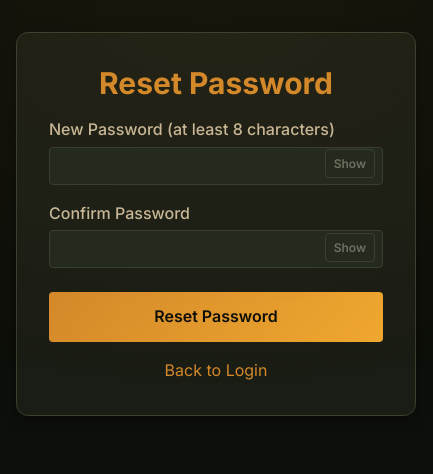
Test: ResetPasswordForm › shows error for password too short
The width and height of the screenshot is (433, 474).
Type "short" into the password field labelled "New Password (at least 8 characters) Show".
click(216, 166); type("short")  # box 49,147 -> 383,185
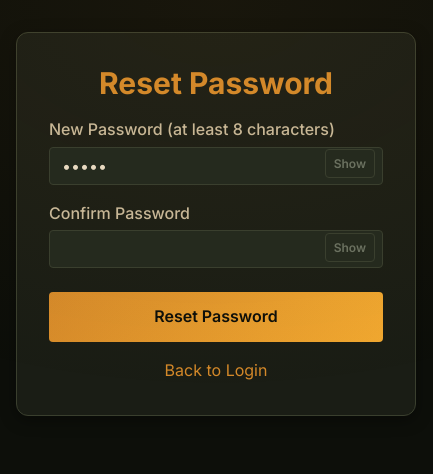
Type "short" into the password field labelled "Confirm Password Show".
click(216, 249); type("short")  # box 49,230 -> 383,268
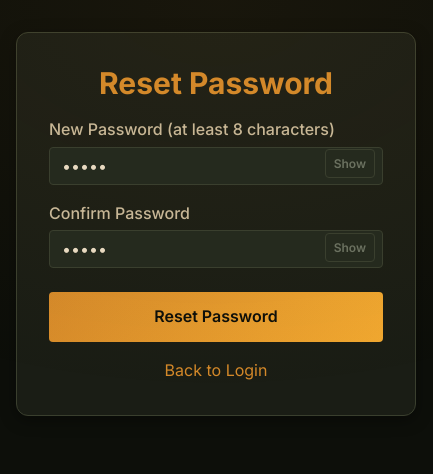
Click the button "Reset Password".
click(216, 317)  # box 49,292 -> 383,342
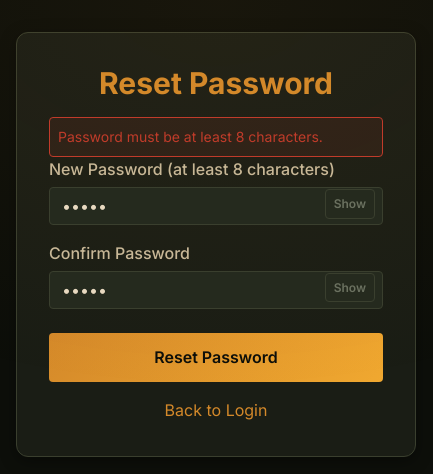
Expected: the message reads "Password must be at least 8 characters.", 58,128 -> 323,145
